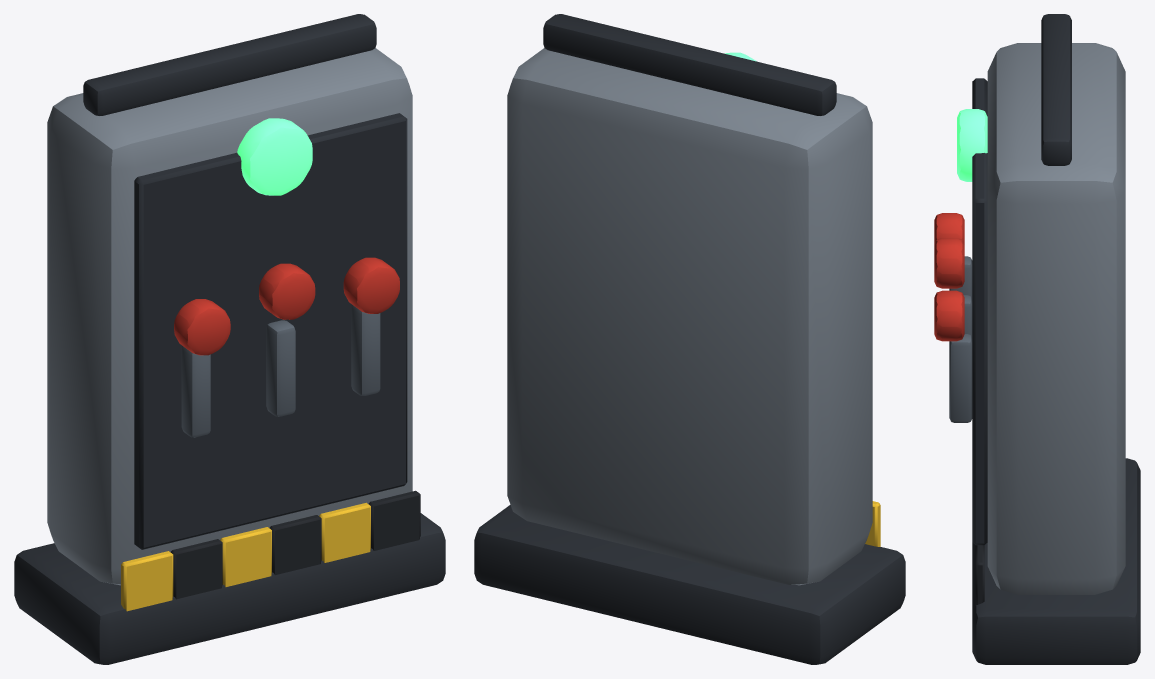
The model's file is FuseBox.glb.
3 views of the same model, side by side, from view 1: azimuth 30°, elevation 25°; view 2: azimuth 150°, elevation 25°; view 3: azimuth 270°, elevation 25° (orthographic). The views are drawn at different scales.
Parts seen in each view (by area): view 1: FuseBox; view 2: FuseBox; view 3: FuseBox.
Part boxes in pixels (x1,y1,x2,y2): FuseBox: (14, 14, 445, 664); FuseBox: (474, 14, 905, 664); FuseBox: (934, 14, 1140, 664).
Bounding box in the file's own units: 0.5 × 0.74 × 0.27.
